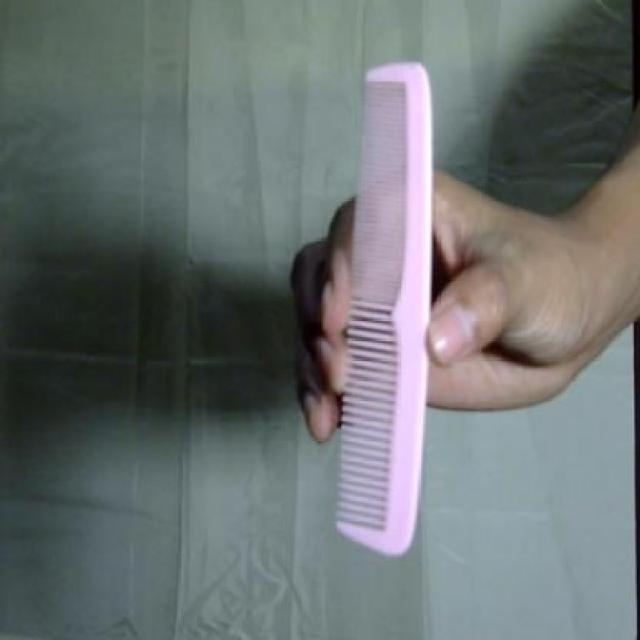Plastic: (336, 61, 431, 556)
